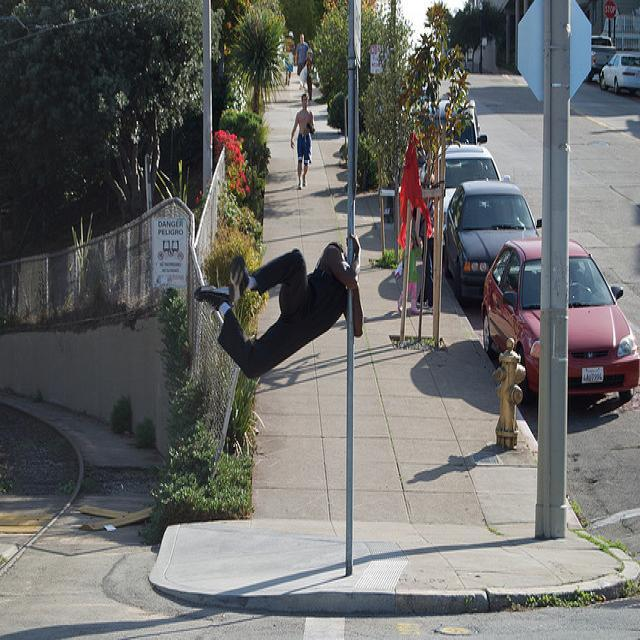fire_hydrant: (489, 334, 525, 451)
